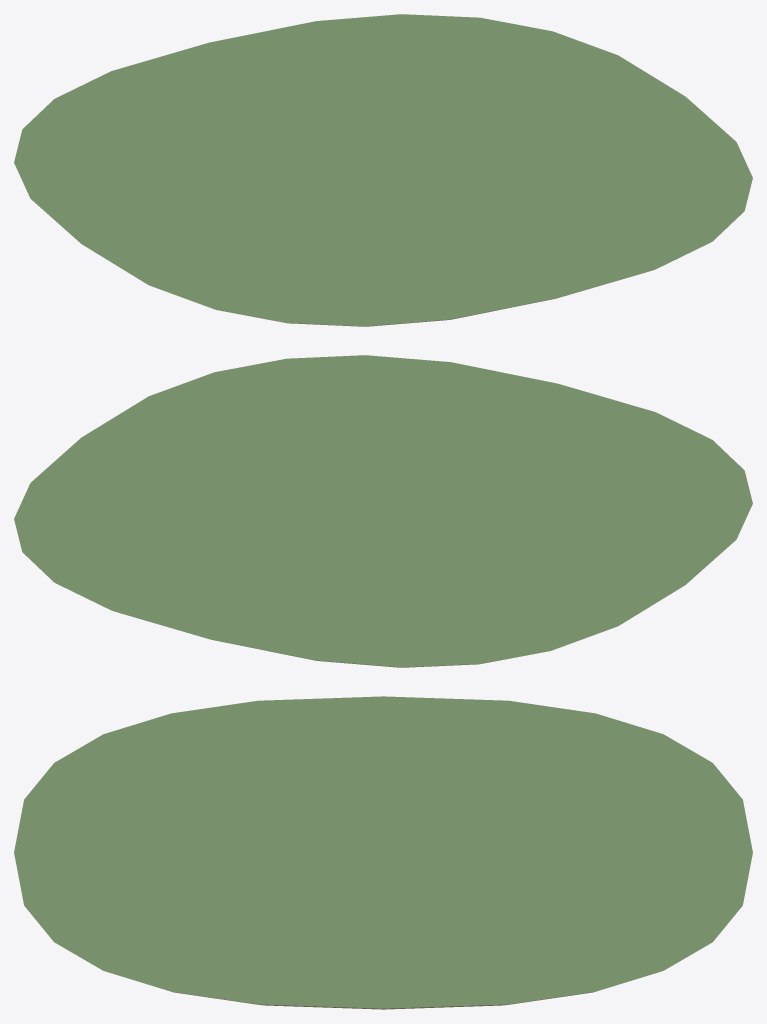
File: Island_Pad_02.glb
The picture shows the model from 3 angles, top to bottom: view 1: azimuth 30°, elevation 25°; view 2: azimuth 150°, elevation 25°; view 3: azimuth 270°, elevation 25°; orthographic projection. The views are drawn at different scales.
Parts seen in each view (by area): view 1: Island_Pad_02; view 2: Island_Pad_02; view 3: Island_Pad_02.
Boxes of the visible parts, x1,y1,x2,y2 form: Island_Pad_02: [14, 14, 752, 326]; Island_Pad_02: [14, 355, 752, 667]; Island_Pad_02: [14, 696, 752, 1009].
Bounding box in the file's own units: 92 × 1.4 × 92.
